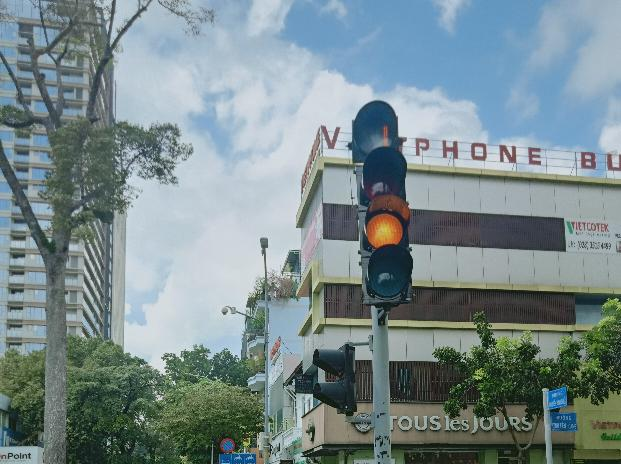yellow_light: (356, 147, 413, 303)
